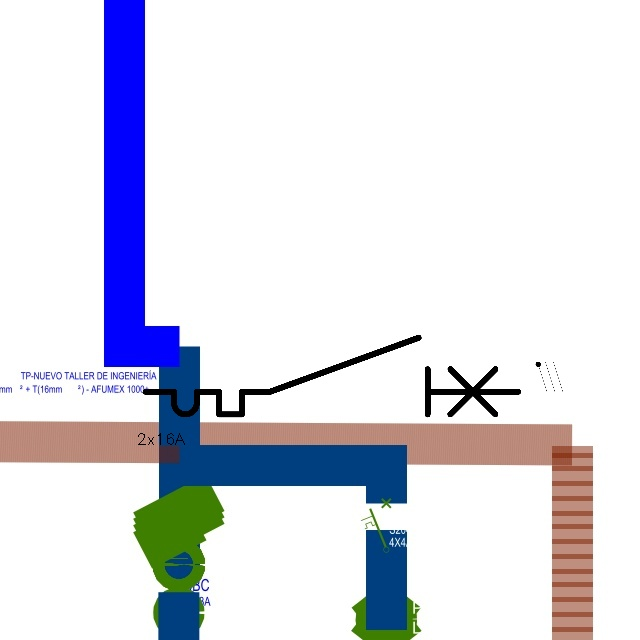interruptor_termomagnetico: (136, 328, 527, 424)
